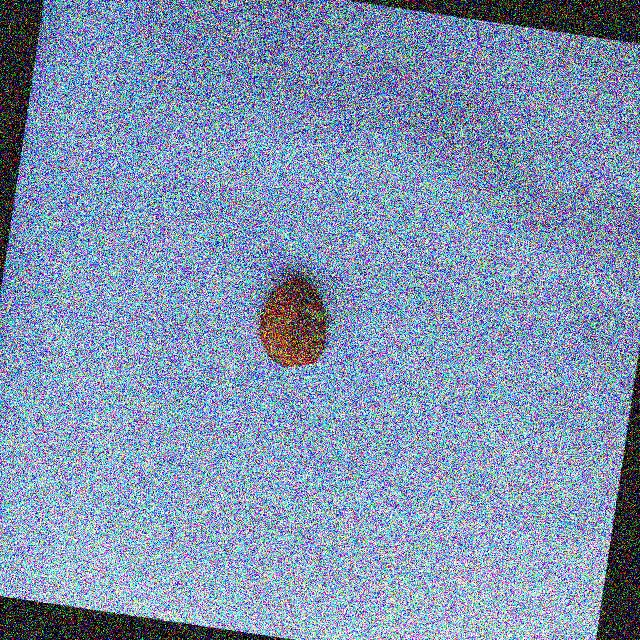grade3: (252, 268, 340, 377)
